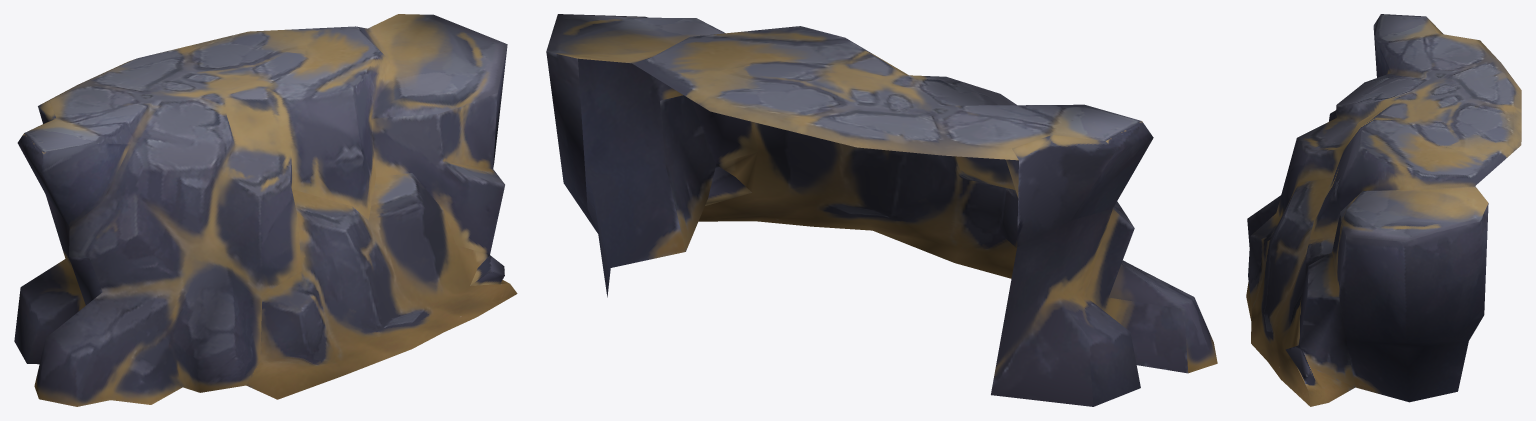
The model's file is scene_malujiakuangdao_shan09.FBX.
3 renders of one model, left to right at view 1: azimuth 30°, elevation 25°; view 2: azimuth 150°, elevation 25°; view 3: azimuth 270°, elevation 25°, orthographic. The views are drawn at different scales.
Visible parts, largest first — view 1: scene_malujiakuangdao_shan09; view 2: scene_malujiakuangdao_shan09; view 3: scene_malujiakuangdao_shan09.
Part boxes in pixels (x1=…): scene_malujiakuangdao_shan09: x1=14, y1=14, x2=517, y2=406; scene_malujiakuangdao_shan09: x1=546, y1=14, x2=1217, y2=406; scene_malujiakuangdao_shan09: x1=1246, y1=14, x2=1521, y2=406.
Size of the model in its own units: 1599 by 695 by 820.
